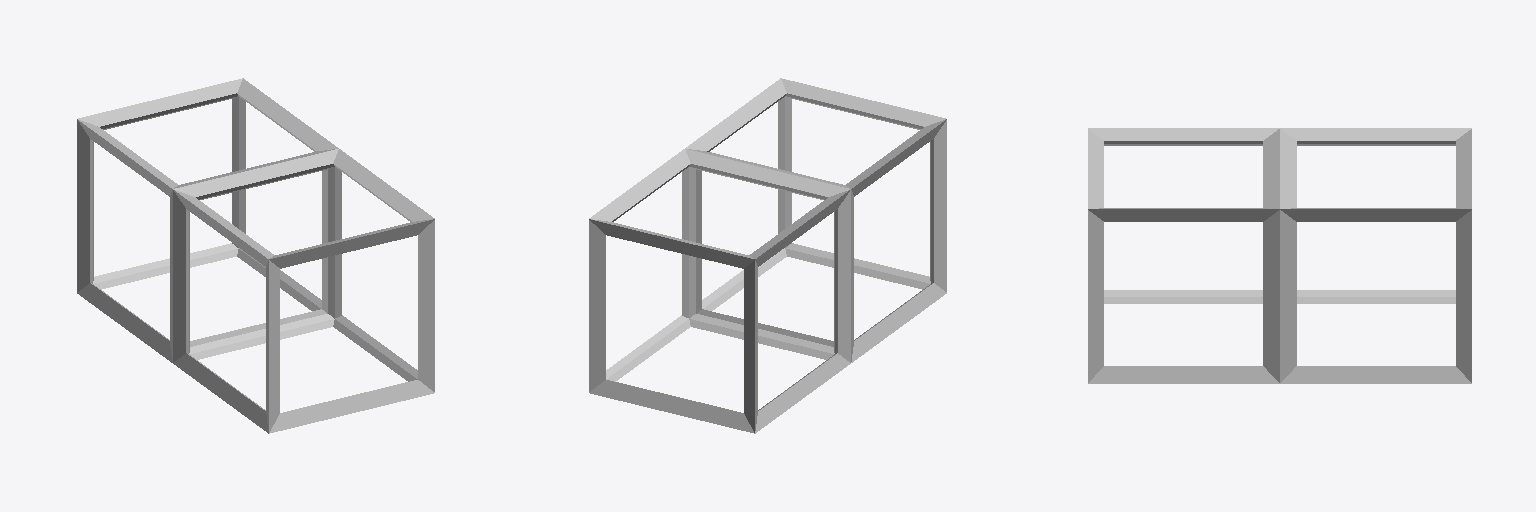
The model's file is unit block_long.obj.
3 views of the same model, side by side, from view 1: azimuth 30°, elevation 25°; view 2: azimuth 150°, elevation 25°; view 3: azimuth 270°, elevation 25° (orthographic).
Parts seen in each view (by area): view 1: Unit_block_long; view 2: Unit_block_long; view 3: Unit_block_long.
Part boxes in pixels (left/top/right/bottom): Unit_block_long: left=77, top=78, right=434, bottom=433; Unit_block_long: left=589, top=78, right=946, bottom=433; Unit_block_long: left=1088, top=128, right=1471, bottom=383.
Bounding box in the file's own units: 2 × 2 × 4.